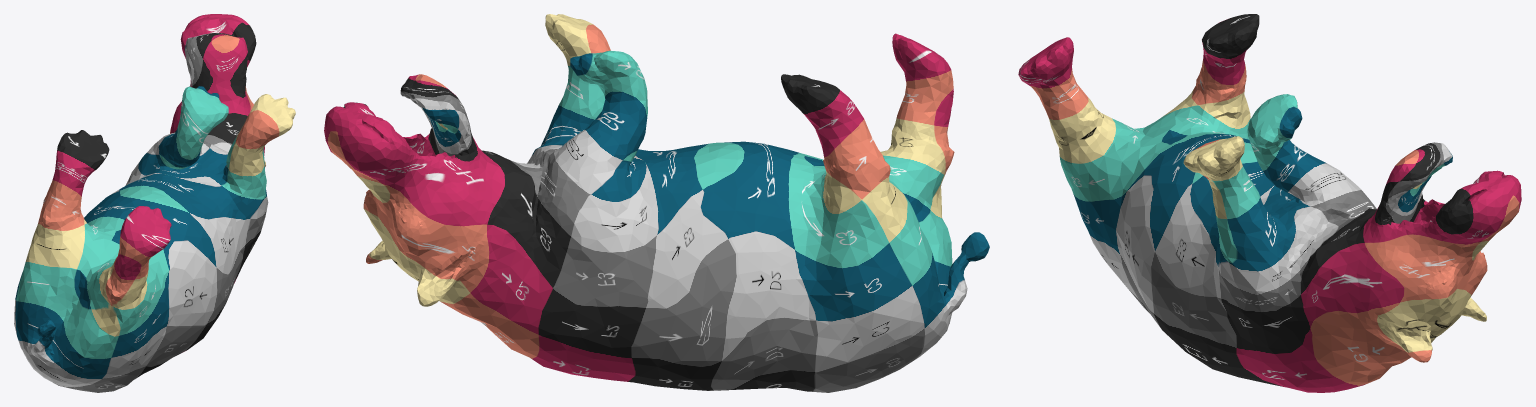
File: cougar_01-hippo_06.obj
3 renders of one model, left to right at view 1: azimuth 30°, elevation 25°; view 2: azimuth 150°, elevation 25°; view 3: azimuth 270°, elevation 25°, orthographic. The views are drawn at different scales.
Visible parts, largest first — view 1: cougar_01-hippo_06_export; view 2: cougar_01-hippo_06_export; view 3: cougar_01-hippo_06_export.
Part boxes in pixels (bbox=[...]): cougar_01-hippo_06_export: bbox=[14, 14, 295, 392]; cougar_01-hippo_06_export: bbox=[324, 14, 989, 392]; cougar_01-hippo_06_export: bbox=[1018, 14, 1521, 392].
Bounding box in the file's own units: 0.7416 × 0.49 × 0.7229.
